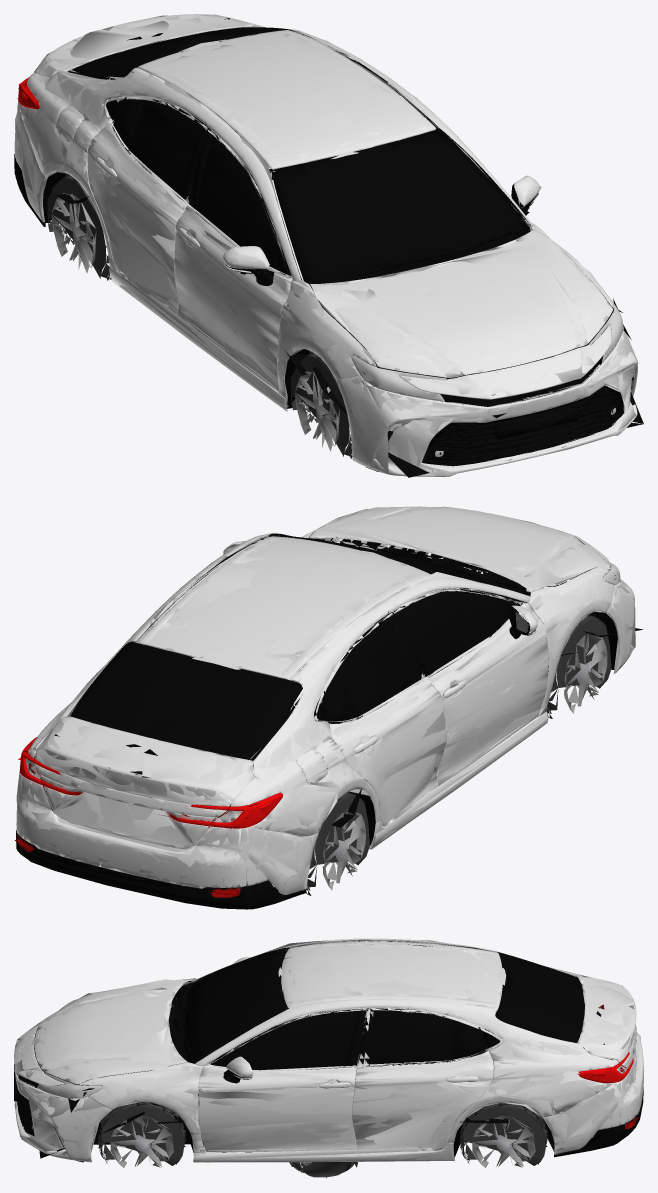
File: sedan1.glb
3 views of the same model, one above another, from view 1: azimuth 30°, elevation 25°; view 2: azimuth 150°, elevation 25°; view 3: azimuth 270°, elevation 25° (orthographic). The views are drawn at different scales.
Parts seen in each view (by area): view 1: body0, body2, body1; view 2: body0, body2, body1; view 3: body0, body2, body1, wheel1.
Boxes of the visible parts, x1=… form: body0: x1=14, y1=14, x2=637, y2=476; body2: x1=14, y1=14, x2=643, y2=477; body1: x1=14, y1=14, x2=637, y2=476; body0: x1=16, y1=507, x2=634, y2=909; body2: x1=16, y1=506, x2=642, y2=895; body1: x1=14, y1=506, x2=634, y2=909; body0: x1=14, y1=938, x2=643, y2=1162; body2: x1=14, y1=940, x2=640, y2=1168; body1: x1=14, y1=938, x2=643, y2=1162; wheel1: x1=289, y1=1162, x2=354, y2=1177.
Size of the model in its own units: 2.08 by 1.8 by 4.88.
